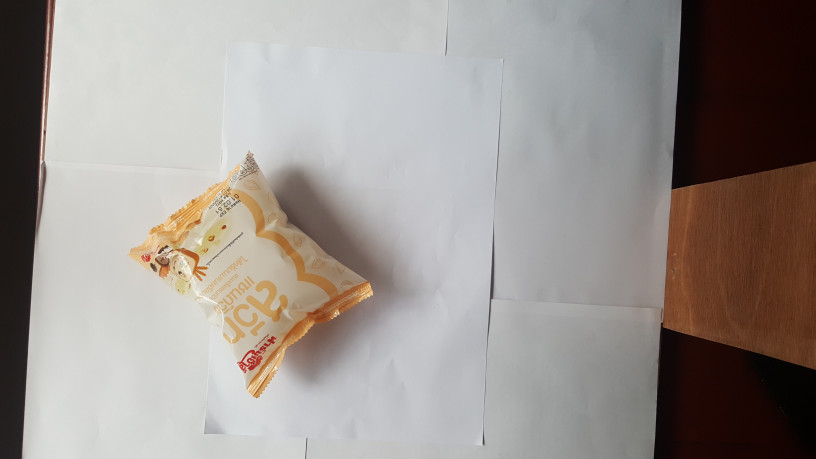farmhouse-sweetsandwich-almond: (125, 143, 380, 401)
